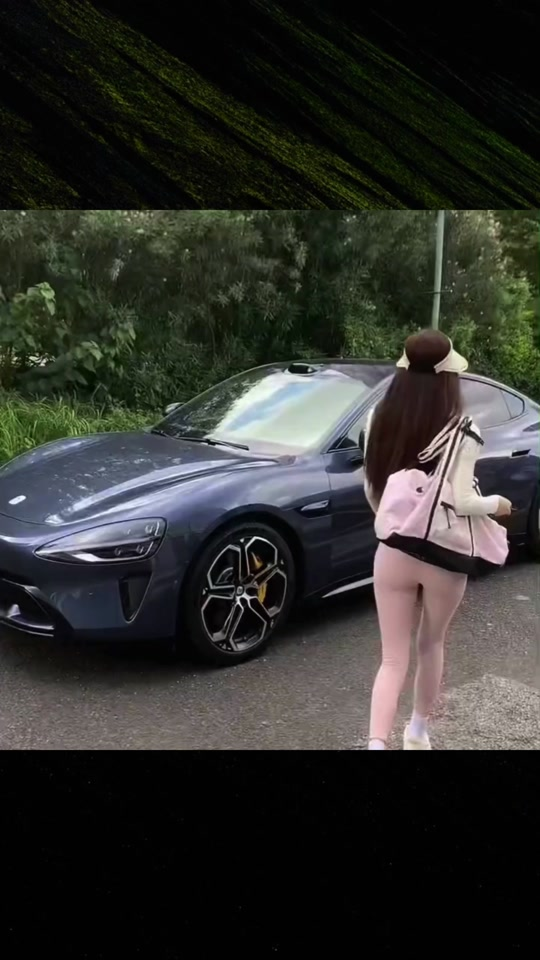su7: (4, 347, 540, 678)
